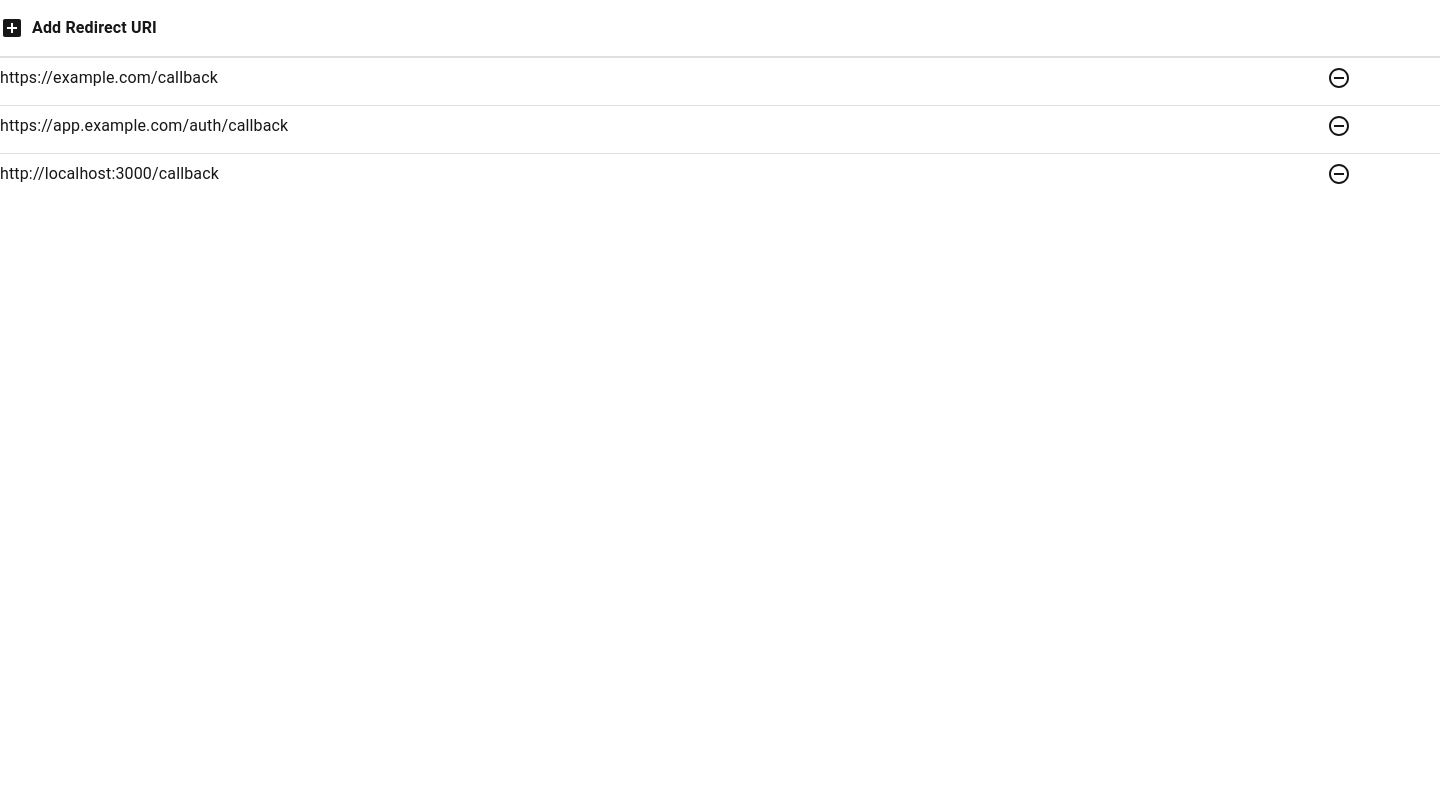
Test: ClientRedirectUriConfiguration - Add URI Dialog › should enable Submit button when valid URI is entered
This screenshot has width=1440, height=810.
Expected: the text "Add Redirect URI" is shown, [32,16,157,40]
Step 1. Click the icon with test id "AddBoxIcon" → (12, 28), box [0,16,24,40]
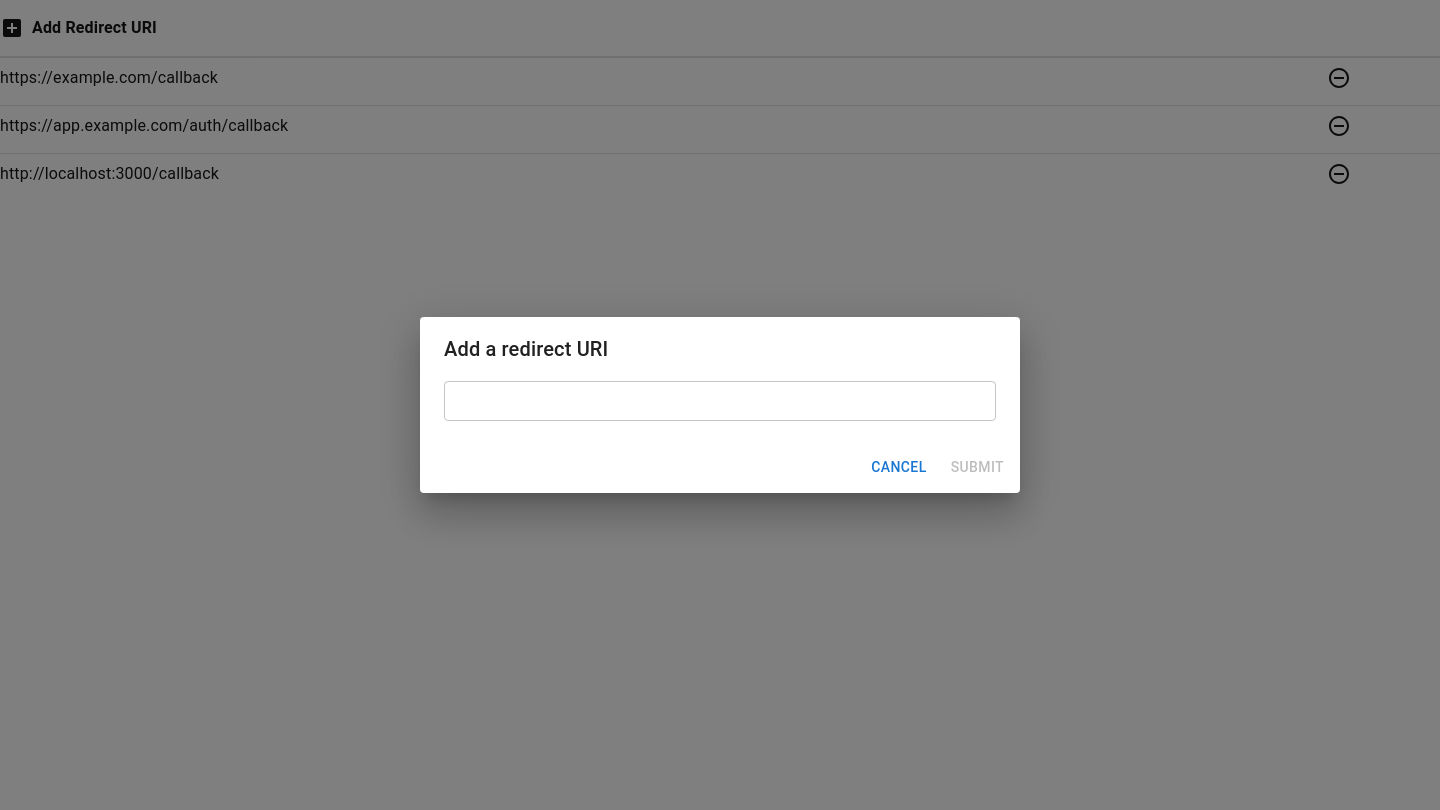
Expected: the heading "Add a redirect URI" is shown, [444,337,608,361]
Step 2. Type "https://newapp.example.com/callback" into the field → (720, 401), box [444,381,996,421]
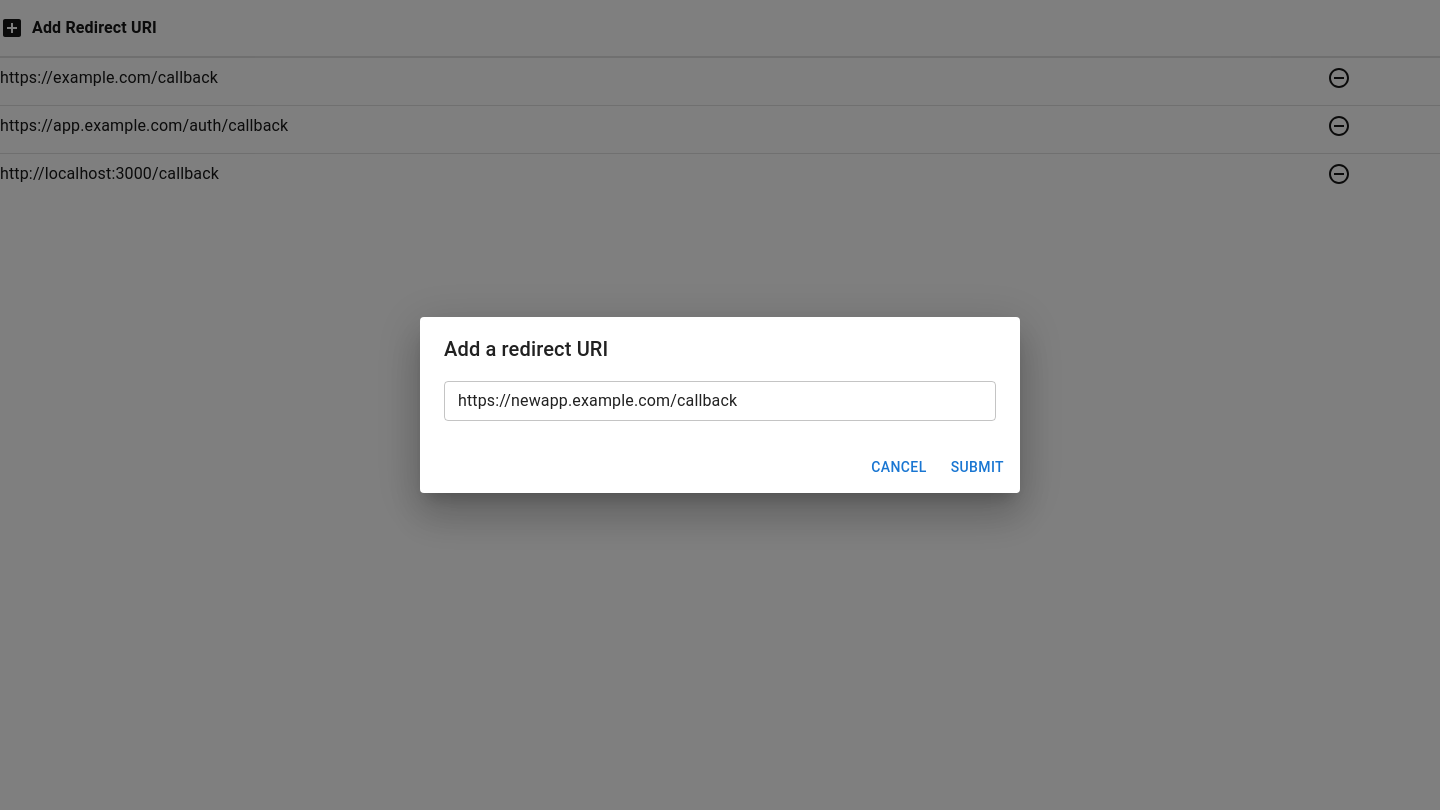
Expected: the button "Submit" is enabled, [943,449,1012,485]
